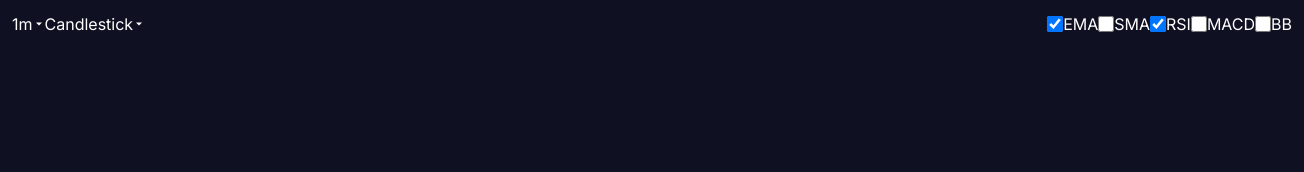
Test: ChartToolbar › shows all chart types
The width and height of the screenshot is (1304, 172).
Click the button with aria-label "chart type": {"x": 95, "y": 24} left=44, top=12, right=145, bottom=36
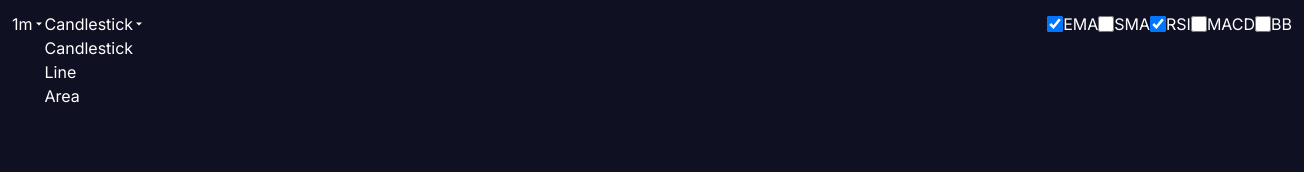
Expected: the button "Line" is shown, left=44, top=60, right=164, bottom=84
Expected: the button "Area" is shown, left=44, top=84, right=164, bottom=108
